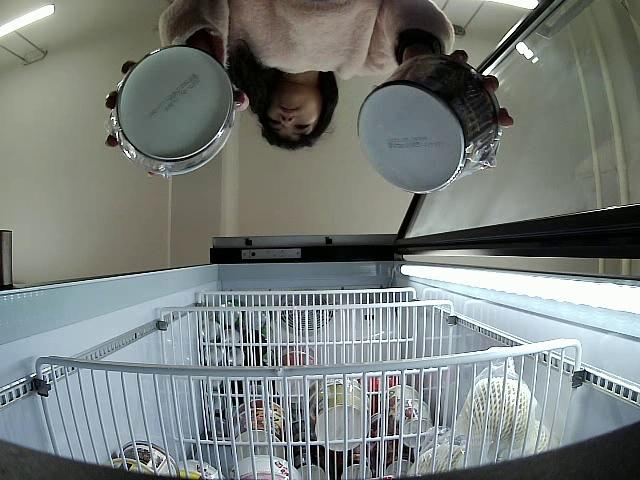00_hand: (105, 59, 249, 176), (397, 49, 516, 129)
07_buldak_L: (356, 53, 501, 195), (113, 43, 235, 176)
